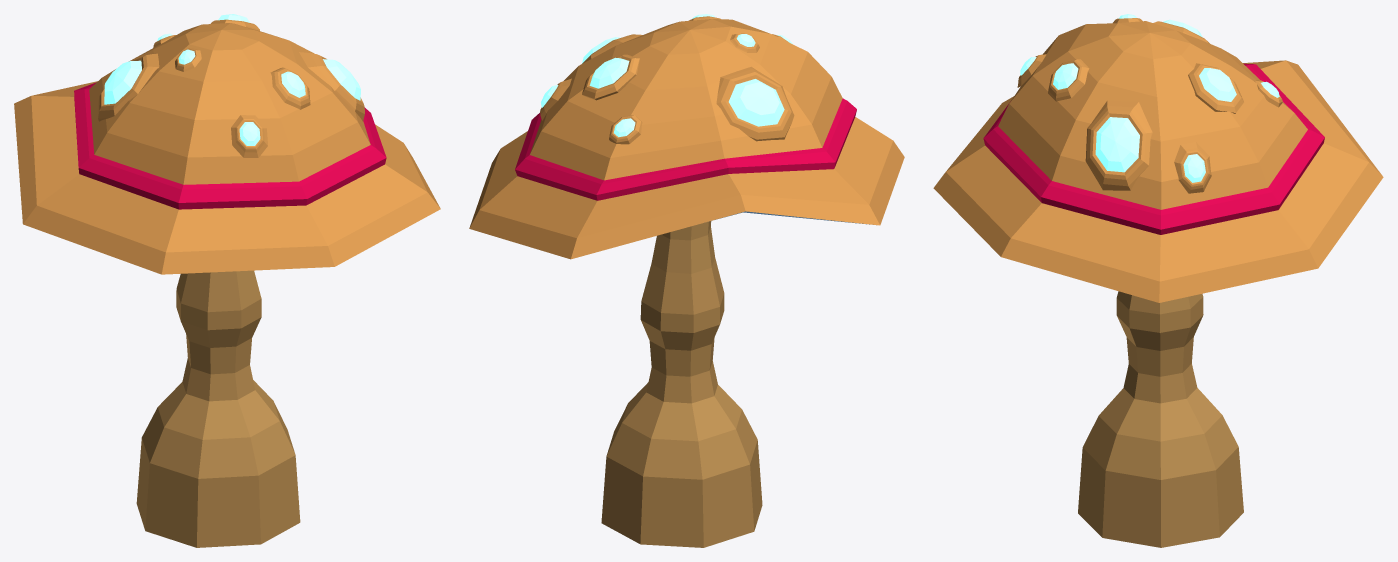
Rendered from Mushroom_03_Var_03.fbx.
3 views of the same model, side by side, from view 1: azimuth 30°, elevation 25°; view 2: azimuth 150°, elevation 25°; view 3: azimuth 270°, elevation 25° (orthographic).
Visible parts, largest first — view 1: Mushroom_03_Var_03; view 2: Mushroom_03_Var_03; view 3: Mushroom_03_Var_03.
Boxes of the visible parts, <box> form: Mushroom_03_Var_03: <box>14,14,440,547</box>; Mushroom_03_Var_03: <box>469,14,904,547</box>; Mushroom_03_Var_03: <box>933,14,1383,547</box>.
Bounding box in the file's own units: 0.2885 × 0.3387 × 0.2848.
